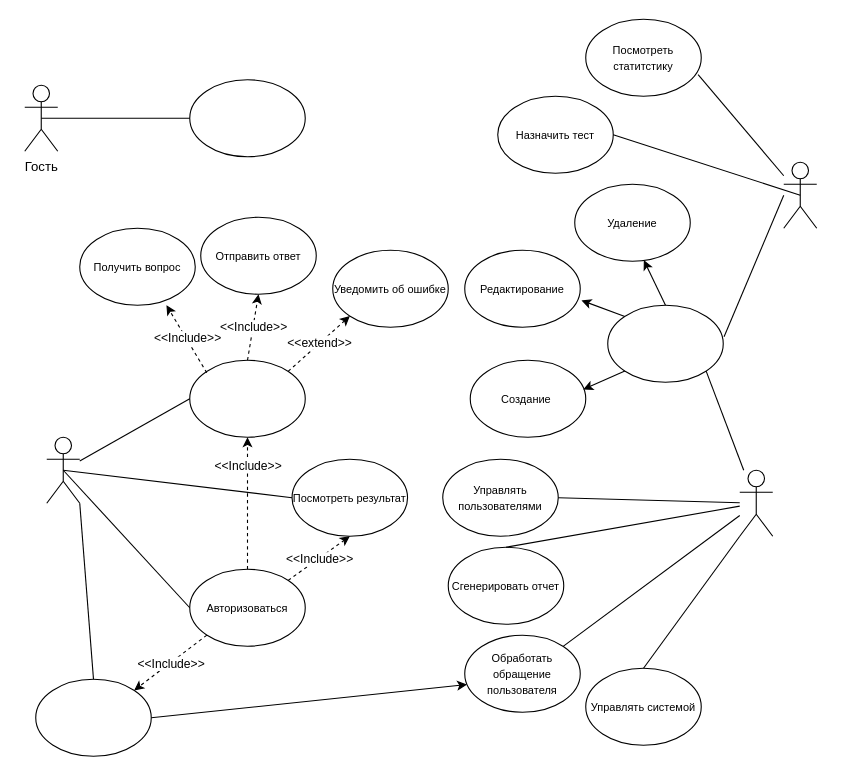
Image size: 866x776. Some labels were removed from this diagram. Here are the shapes that lost their labels. From the top down, the centre of each, then its label:
At [247,118]: "Зарегистрироваться".
At [800,194]: "Преподаватель".
At [665,343]: "Управлять банком вопросов".
At [247,398]: "Пройти тестирование".
At [63,469]: "Обучающийся".
At [756,502]: "Администратор".
At [93,717]: "Обратиться в поддержку".
